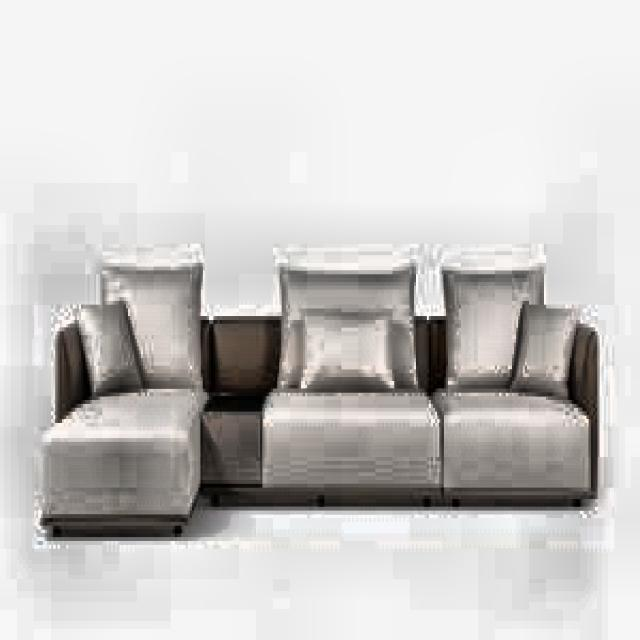sofa: (39, 255, 598, 549)
